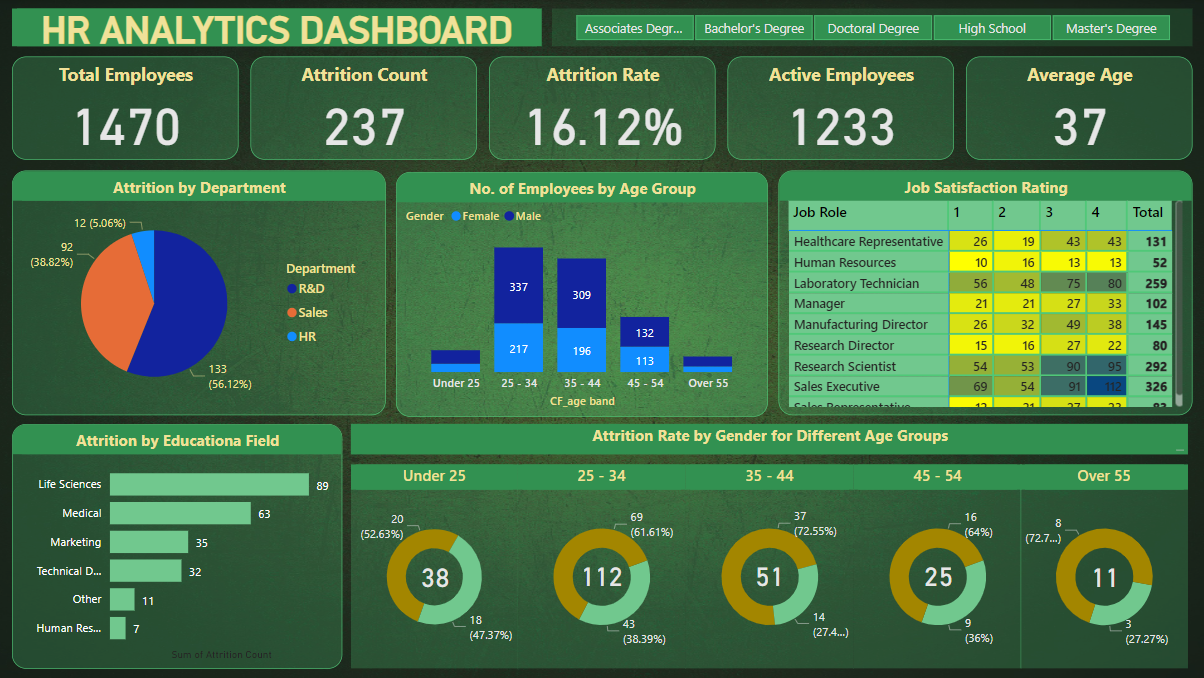

Layout of this report page (visuals, bound fields, positions):
{"tool":"powerbi","page":{"name":"Page 1","canvas":[1280,720],"ordinal":0},"visuals":[{"type":"card","title":"Total Employees","fields":{"Values":["Sum(HR data.Employee Count)"]},"box":[15.1,62.3,239.8,109.5],"z":0},{"type":"card","title":"Attrition Count","fields":{"Values":["Sum(HR data.Attrition Count)"]},"box":[268.1,62.3,239.8,109.5],"z":1000},{"type":"card","title":"Attrition Rate","fields":{"Values":["HR data.Attrition Rate"]},"box":[521.1,62.3,239.8,109.5],"z":2000},{"type":"card","title":"Active Employees","fields":{"Values":["HR data.Active Employees"]},"box":[774,62.3,239.8,109.5],"z":3000},{"type":"card","title":"Average Age","fields":{"Values":["Avg(HR data.Age)"]},"box":[1027,62.3,239.8,109.5],"z":4000},{"type":"pieChart","title":"Attrition by Department","fields":{"Category":["HR data.Department"],"Y":["Sum(HR data.Attrition Count)"]},"box":[15.9,182.8,395.8,259.1],"z":5000},{"type":"columnChart","title":"No. of Employees by Age Group","fields":{"Category":["HR data.CF_age band"],"Y":["Sum(HR data.Employee Count)"],"Series":["HR data.Gender"]},"box":[422.8,184.4,394.2,259.1],"z":6000},{"type":"pivotTable","title":"Job Satisfaction Rating","fields":{"Rows":["HR data.Job Role"],"Columns":["HR data.Job Satisfaction"],"Values":["Sum(HR data.Employee Count)"]},"box":[828.1,182.8,438.7,259.1],"z":7000},{"type":"barChart","title":"Attrition by Educationa Field","fields":{"Category":["HR data.Education Field"],"Y":["Sum(HR data.Attrition Count)"]},"box":[15.9,451.4,349.7,259.1],"z":8000},{"type":"donutChart","title":"Under 25","fields":{"Y":["Sum(HR data.Attrition Count)"],"Series":["HR data.CF_age band"],"Category":["HR data.Gender"]},"box":[375.1,494.3,176.4,216.2],"z":9000},{"type":"textbox","title":"Attrition Rate by Gender for Different Age Groups","box":[375.1,451.4,886.9,31.8],"z":10000},{"type":"donutChart","title":"25 - 34","fields":{"Y":["Sum(HR data.Attrition Count)"],"Series":["HR data.CF_age band"],"Category":["HR data.Gender"]},"box":[551.5,494.3,178,216.2],"z":11000},{"type":"donutChart","title":"35 - 44","fields":{"Y":["Sum(HR data.Attrition Count)"],"Series":["HR data.CF_age band"],"Category":["HR data.Gender"]},"box":[729.5,494.3,178,216.2],"z":12000},{"type":"donutChart","title":"45 - 54","fields":{"Y":["Sum(HR data.Attrition Count)"],"Series":["HR data.CF_age band"],"Category":["HR data.Gender"]},"box":[907.5,494.3,178,216.2],"z":13000},{"type":"donutChart","title":"Over 55","fields":{"Y":["Sum(HR data.Attrition Count)"],"Series":["HR data.CF_age band"],"Category":["HR data.Gender"]},"box":[1084,494.3,178,216.2],"z":14000},{"type":"card","fields":{"Values":["Sum(HR data.Attrition Count)"]},"box":[433.9,584.9,60.4,55.6],"z":14001},{"type":"card","fields":{"Values":["Sum(HR data.Attrition Count)"]},"box":[599.2,583.3,82.6,55.6],"z":14002},{"type":"card","fields":{"Values":["Sum(HR data.Attrition Count)"]},"box":[783.6,583.3,68.3,55.6],"z":14003},{"type":"card","fields":{"Values":["Sum(HR data.Attrition Count)"]},"box":[963.2,583.3,68.3,55.6],"z":14004},{"type":"card","fields":{"Values":["Sum(HR data.Attrition Count)"]},"box":[1139.6,584.9,68.3,55.6],"z":14005},{"type":"textbox","title":"HR ANALYTICS DASHBOARD","box":[15.9,11.1,561.1,39.7],"z":14006},{"type":"slicer","fields":{"Values":["HR data.Education"]},"box":[588.1,11.1,678.7,39.7],"z":14007}]}

Visuals, with their boxes in screenshot pixels (x1, y1, x2, y2), scaled from the page's 1280x720 canvas onto the 1204x678 screenshot:
"Total Employees" card: left=14, top=59, right=240, bottom=162
"Attrition Count" card: left=252, top=59, right=478, bottom=162
"Attrition Rate" card: left=490, top=59, right=716, bottom=162
"Active Employees" card: left=728, top=59, right=954, bottom=162
"Average Age" card: left=966, top=59, right=1192, bottom=162
"Attrition by Department" pieChart: left=15, top=172, right=387, bottom=416
"No. of Employees by Age Group" columnChart: left=398, top=174, right=768, bottom=418
"Job Satisfaction Rating" pivotTable: left=779, top=172, right=1192, bottom=416
"Attrition by Educationa Field" barChart: left=15, top=425, right=344, bottom=669
"Under 25" donutChart: left=353, top=465, right=519, bottom=669
"Attrition Rate by Gender for Different Age Groups" textbox: left=353, top=425, right=1187, bottom=455
"25 - 34" donutChart: left=519, top=465, right=686, bottom=669
"35 - 44" donutChart: left=686, top=465, right=854, bottom=669
"45 - 54" donutChart: left=854, top=465, right=1021, bottom=669
"Over 55" donutChart: left=1020, top=465, right=1187, bottom=669
card - Sum(HR data.Attrition Count): left=408, top=551, right=465, bottom=603
card - Sum(HR data.Attrition Count): left=564, top=549, right=641, bottom=602
card - Sum(HR data.Attrition Count): left=737, top=549, right=801, bottom=602
card - Sum(HR data.Attrition Count): left=906, top=549, right=970, bottom=602
card - Sum(HR data.Attrition Count): left=1072, top=551, right=1136, bottom=603
"HR ANALYTICS DASHBOARD" textbox: left=15, top=10, right=543, bottom=48
slicer - HR data.Education: left=553, top=10, right=1192, bottom=48
